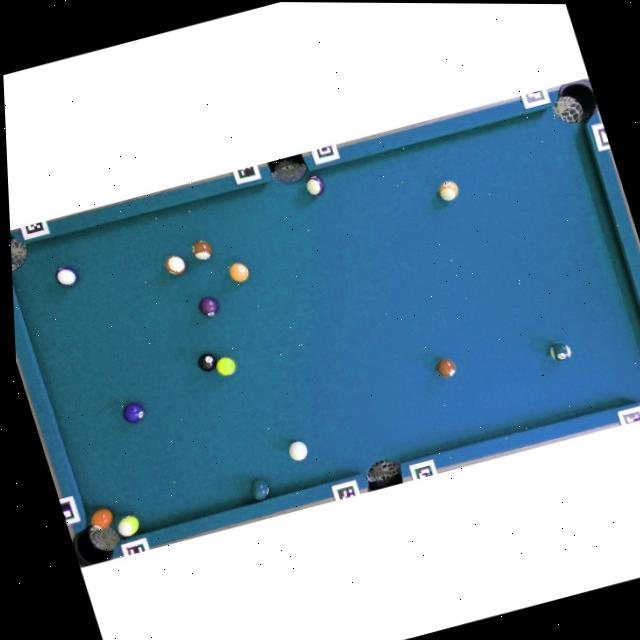cue ball: (286, 438, 310, 463)
other: (87, 505, 116, 532), (114, 512, 142, 538), (120, 400, 147, 425), (53, 264, 79, 289), (248, 477, 273, 502), (189, 237, 214, 262), (162, 252, 187, 276), (436, 178, 461, 202), (227, 260, 251, 284), (196, 294, 220, 318), (547, 340, 572, 363), (213, 354, 238, 377), (304, 174, 327, 197), (434, 356, 458, 378), (195, 351, 219, 373)
